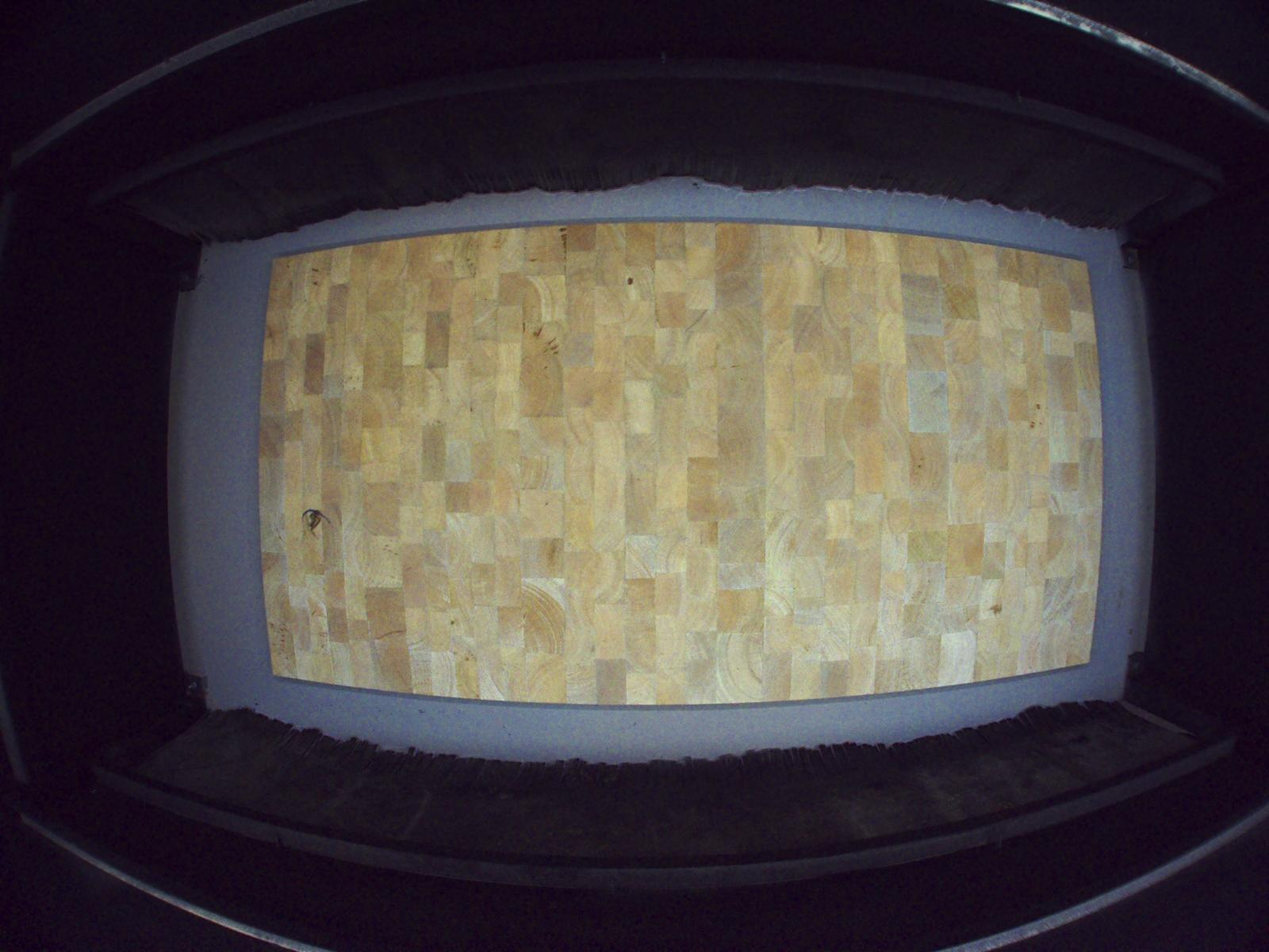nudillo: (301, 507, 322, 540)
